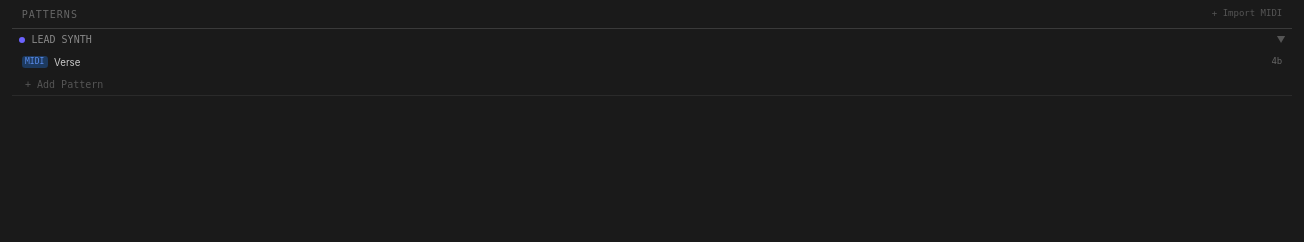
Test: PatternBrowser › right click on a pattern row shows the context menu
The image size is (1304, 242).
Right-click the row with test id "pattern-row-pat-ctx": (35, 62) [22, 56, 1282, 68]
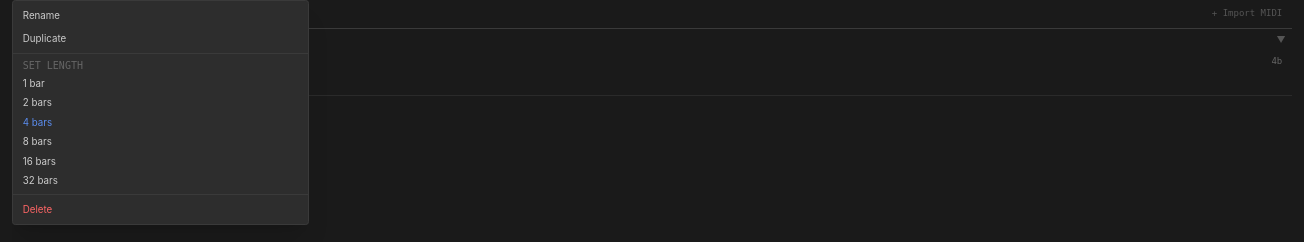
Check: the element with test id "pattern-context-menu" is shown, box [12, 0, 309, 225]
